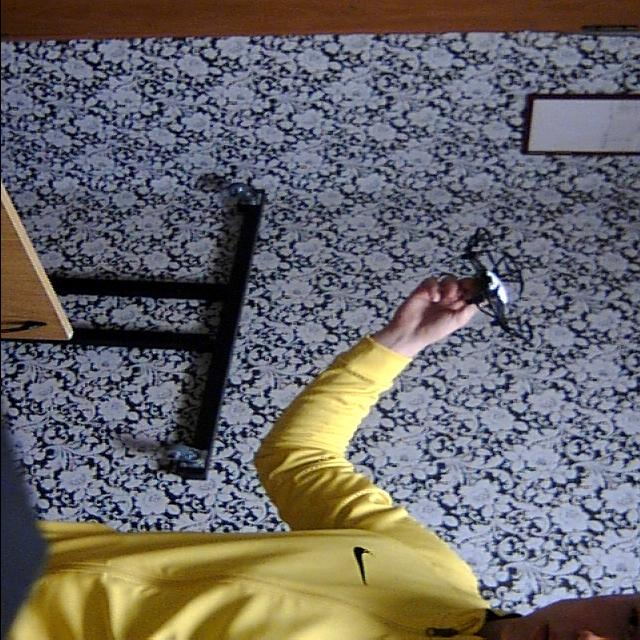drone: (459, 214, 552, 356)
